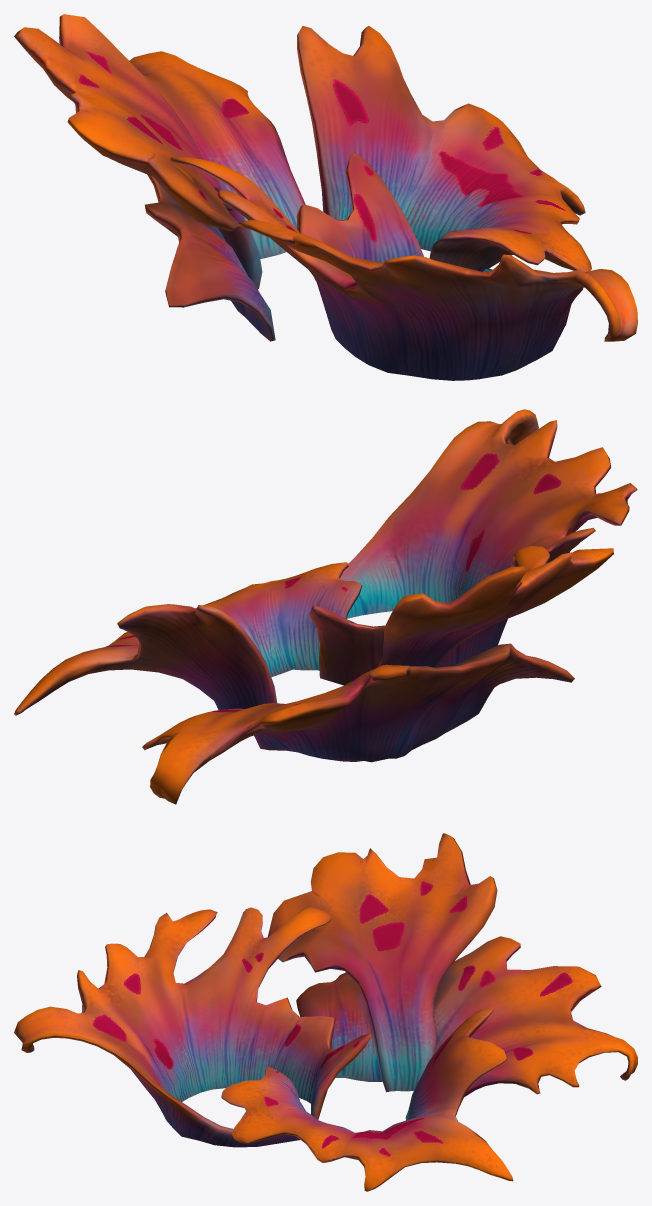
The model's file is VegetationSmall02.fbx.
3 renders of one model, top to bottom at view 1: azimuth 30°, elevation 25°; view 2: azimuth 150°, elevation 25°; view 3: azimuth 270°, elevation 25°, orthographic. The views are drawn at different scales.
Parts seen in each view (by area): view 1: VegetationSmall02_LOD00; view 2: VegetationSmall02_LOD00; view 3: VegetationSmall02_LOD00.
Part boxes in pixels (box(x1,y1,x2,y2)): VegetationSmall02_LOD00: box(14, 14, 637, 380); VegetationSmall02_LOD00: box(14, 409, 637, 804); VegetationSmall02_LOD00: box(14, 833, 637, 1191).
Size of what is drawn, in the model's own units: 189 by 95.23 by 277.
